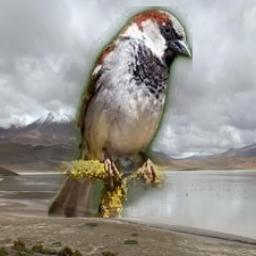Sparrow: (48, 6, 193, 218)
